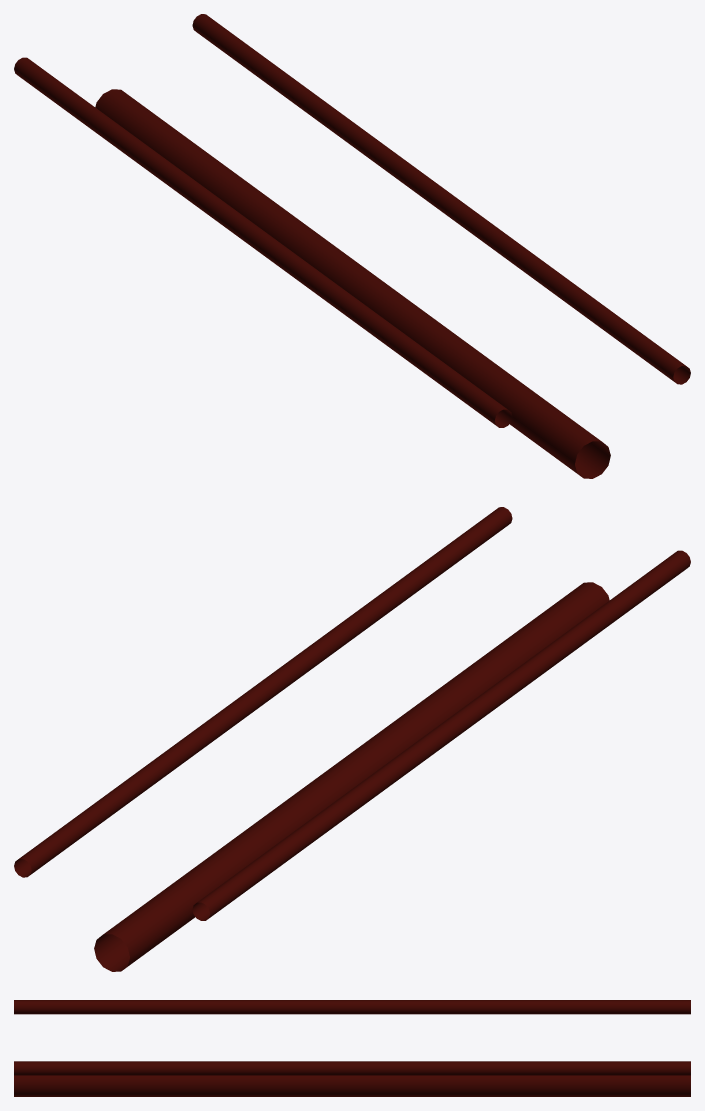
File: Riel.fbx
3 views of the same model, one above another, from view 1: azimuth 30°, elevation 25°; view 2: azimuth 150°, elevation 25°; view 3: azimuth 270°, elevation 25° (orthographic). The views are drawn at different scales.
Visible parts, largest first — view 1: Riel; view 2: Riel; view 3: Riel.
Part boxes in pixels (x1,y1,x2,y2): Riel: (14,14,690,478); Riel: (14,507,690,971); Riel: (14,1000,690,1096).
Bounding box in the file's own units: 118 × 52.34 × 500.
